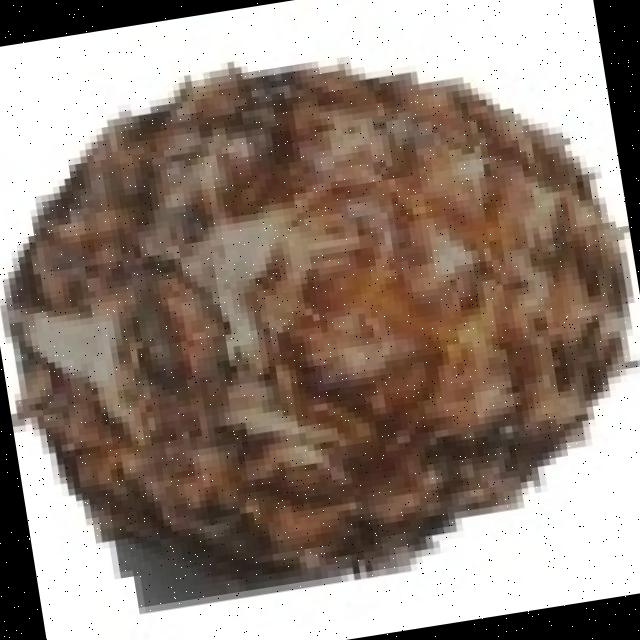pineapple: (16, 57, 634, 592)
